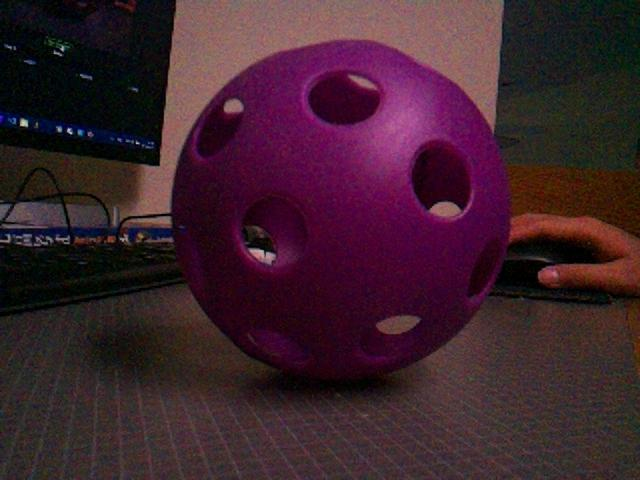Purple: (167, 36, 514, 384)
